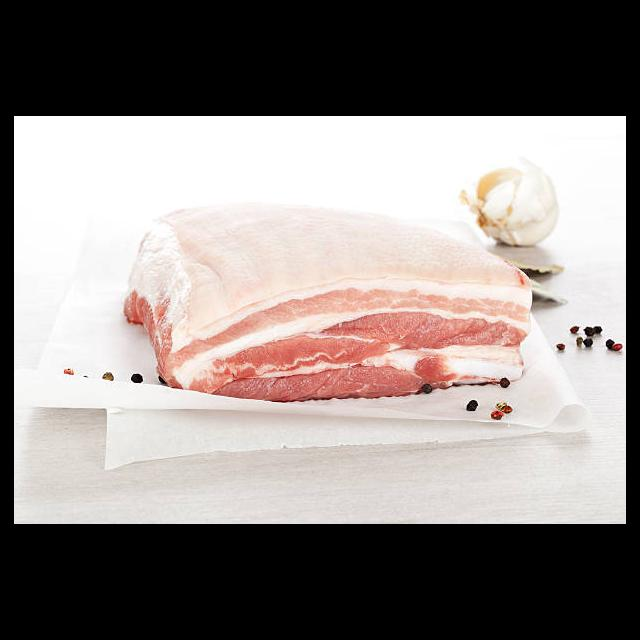pork: (126, 246, 529, 400)
